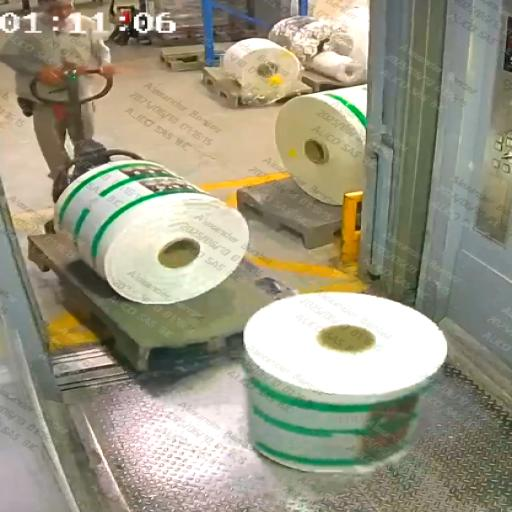rollos caidos: (40, 163, 472, 509)
